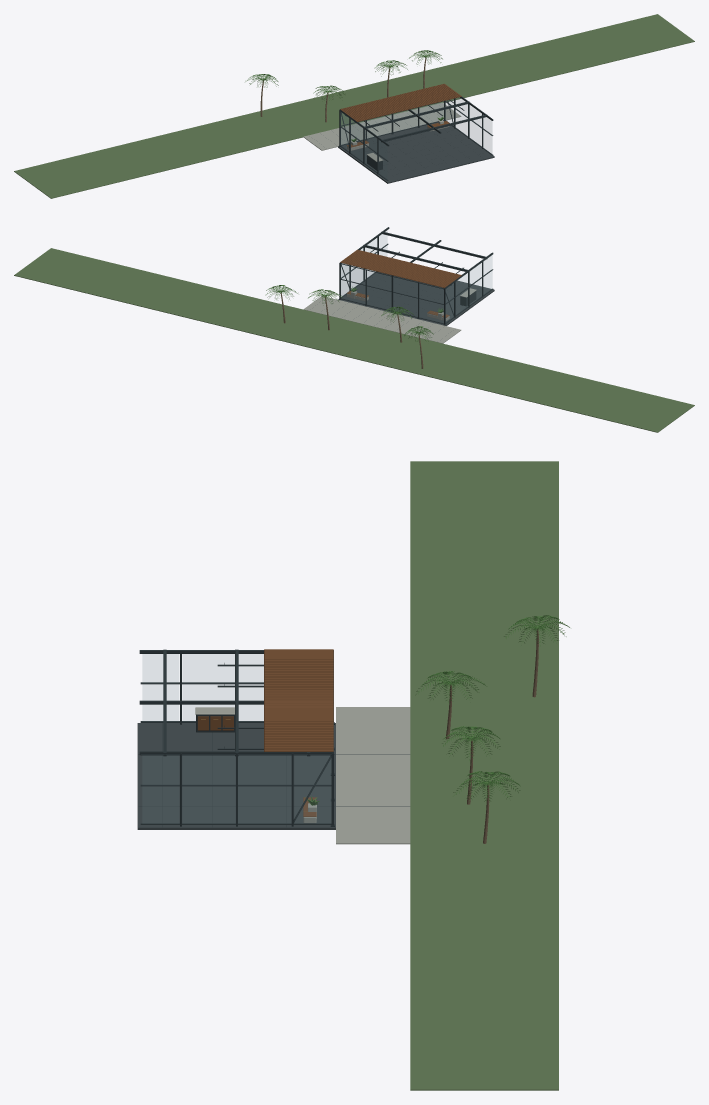
The model's file is ServiceShowroomLoft.glb.
The picture shows the model from 3 angles, top to bottom: view 1: azimuth 30°, elevation 25°; view 2: azimuth 150°, elevation 25°; view 3: azimuth 270°, elevation 25°; orthographic projection. The views are drawn at different scales.
Visible parts, largest first — view 1: ServiceShowroomLoft_Loft_Coastal_Grass, ServiceShowroomLoft_Loft_Polished_Basalt, ServiceShowroomLoft_Loft_Clear_Coastal_Glass, ServiceShowroomLoft_Loft_Graphite_Steel, ServiceShowroomLoft_Loft_Pale_Limestone, ServiceShowroomLoft_Loft_Warm_Timber, ServiceShowroomLoft_Loft_Palm_Leaf; view 2: ServiceShowroomLoft_Loft_Coastal_Grass, ServiceShowroomLoft_Loft_Clear_Coastal_Glass, ServiceShowroomLoft_Loft_Polished_Basalt, ServiceShowroomLoft_Loft_Pale_Limestone, ServiceShowroomLoft_Loft_Graphite_Steel, ServiceShowroomLoft_Loft_Warm_Timber, ServiceShowroomLoft_Loft_Palm_Leaf; view 3: ServiceShowroomLoft_Loft_Coastal_Grass, ServiceShowroomLoft_Loft_Clear_Coastal_Glass, ServiceShowroomLoft_Loft_Polished_Basalt, ServiceShowroomLoft_Loft_Pale_Limestone, ServiceShowroomLoft_Loft_Warm_Timber, ServiceShowroomLoft_Loft_Graphite_Steel, ServiceShowroomLoft_Loft_Palm_Leaf.
Boxes of the visible parts, x1=… form: ServiceShowroomLoft_Loft_Coastal_Grass: x1=14, y1=14, x2=694, y2=198; ServiceShowroomLoft_Loft_Polished_Basalt: x1=338, y1=122, x2=494, y2=183; ServiceShowroomLoft_Loft_Clear_Coastal_Glass: x1=341, y1=98, x2=491, y2=178; ServiceShowroomLoft_Loft_Graphite_Steel: x1=339, y1=96, x2=493, y2=180; ServiceShowroomLoft_Loft_Pale_Limestone: x1=303, y1=102, x2=461, y2=161; ServiceShowroomLoft_Loft_Warm_Timber: x1=340, y1=83, x2=461, y2=147; ServiceShowroomLoft_Loft_Palm_Leaf: x1=245, y1=50, x2=444, y2=141; ServiceShowroomLoft_Loft_Coastal_Grass: x1=14, y1=248, x2=694, y2=432; ServiceShowroomLoft_Loft_Clear_Coastal_Glass: x1=341, y1=231, x2=491, y2=322; ServiceShowroomLoft_Loft_Polished_Basalt: x1=338, y1=272, x2=494, y2=325; ServiceShowroomLoft_Loft_Pale_Limestone: x1=303, y1=288, x2=476, y2=343; ServiceShowroomLoft_Loft_Graphite_Steel: x1=338, y1=227, x2=493, y2=325; ServiceShowroomLoft_Loft_Warm_Timber: x1=340, y1=249, x2=461, y2=317; ServiceShowroomLoft_Loft_Palm_Leaf: x1=265, y1=285, x2=443, y2=341; ServiceShowroomLoft_Loft_Coastal_Grass: x1=410, y1=461, x2=558, y2=1090; ServiceShowroomLoft_Loft_Clear_Coastal_Glass: x1=143, y1=654, x2=330, y2=822; ServiceShowroomLoft_Loft_Polished_Basalt: x1=137, y1=723, x2=335, y2=829; ServiceShowroomLoft_Loft_Pale_Limestone: x1=195, y1=707, x2=410, y2=844; ServiceShowroomLoft_Loft_Warm_Timber: x1=197, y1=649, x2=333, y2=816; ServiceShowroomLoft_Loft_Graphite_Steel: x1=138, y1=649, x2=409, y2=826; ServiceShowroomLoft_Loft_Palm_Leaf: x1=305, y1=615, x2=569, y2=805.
Size of what is drawn, in the model's own units: 120 by 7.01 by 34.98.
